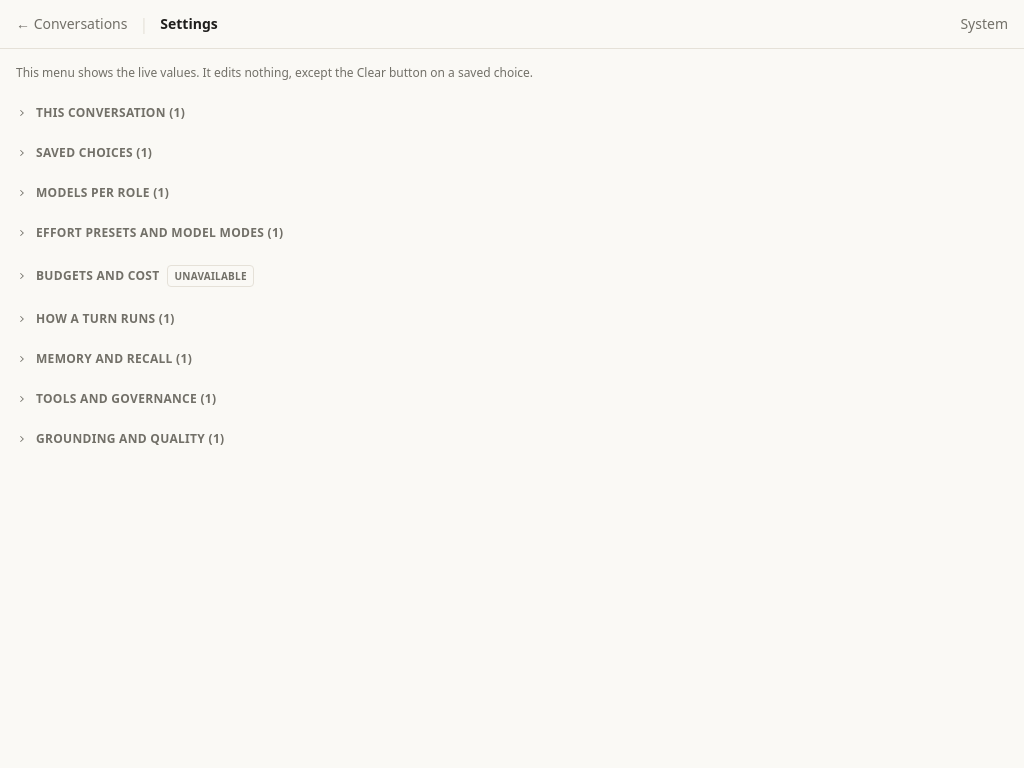
Test: failure states › says a group is unavailable, and still renders the other groups
Click the button "Budgets and cost unavailable": coordinates (98, 276) [16,265,1008,287]
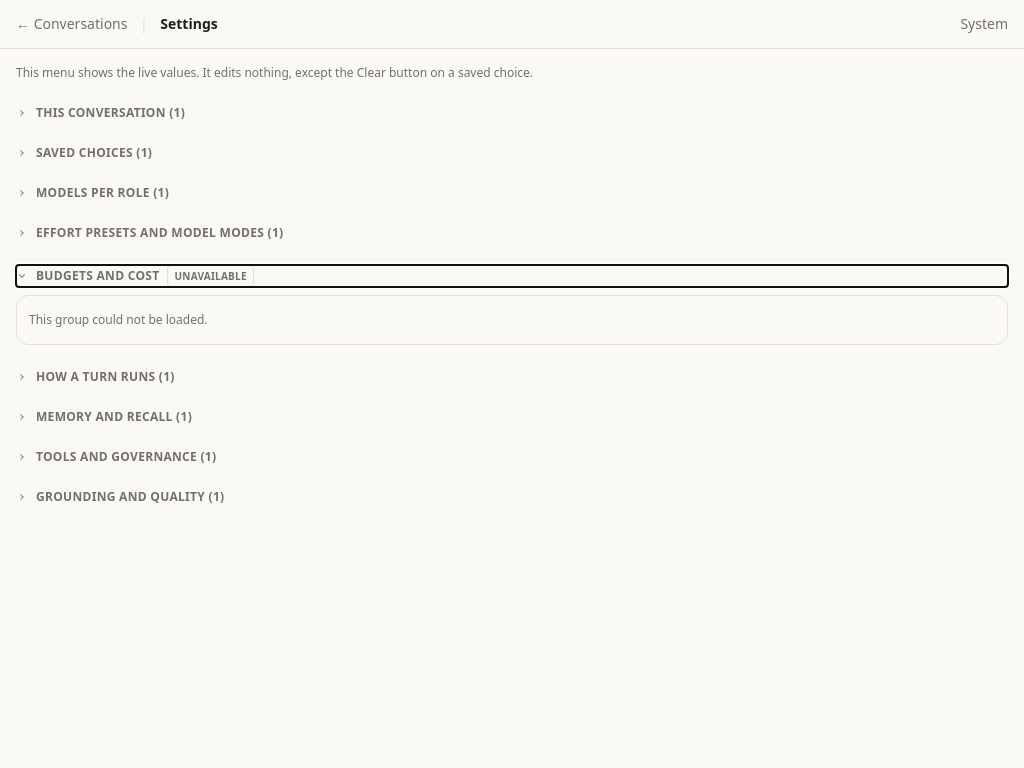
Expected: the text "This group could not be loaded." is shown, [29,311,208,328]
Click the button "Memory and recall (1)": coordinates (104, 416) [16,409,1008,425]
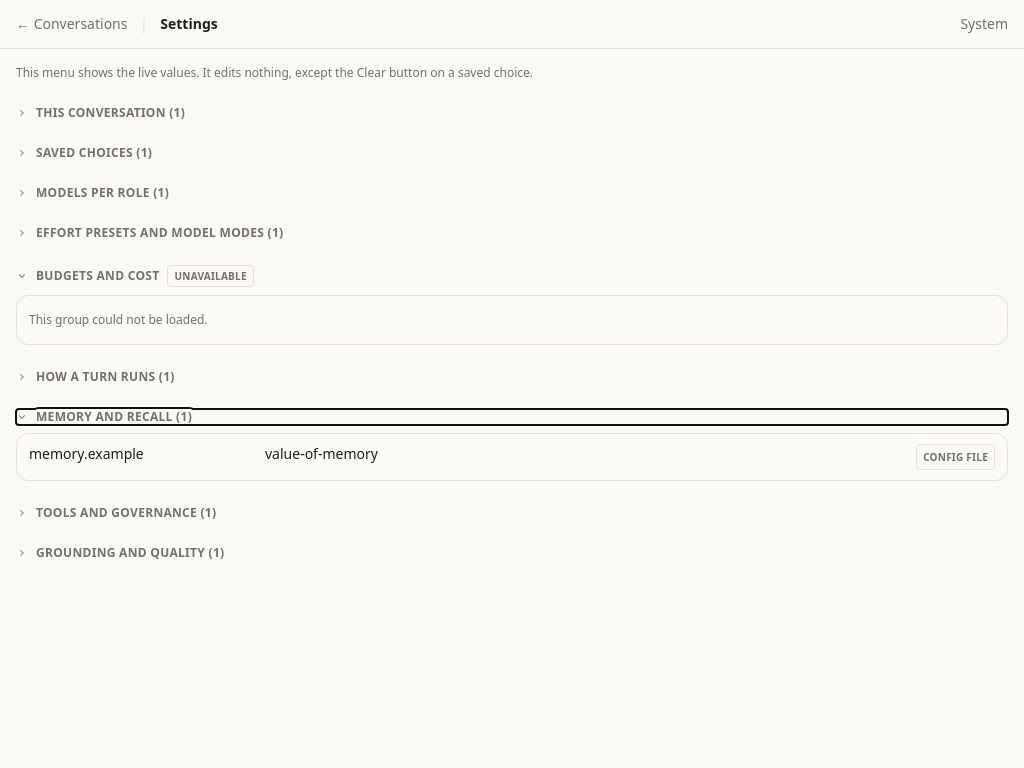
Expected: the text "memory.example" is shown, [29,444,144,463]
